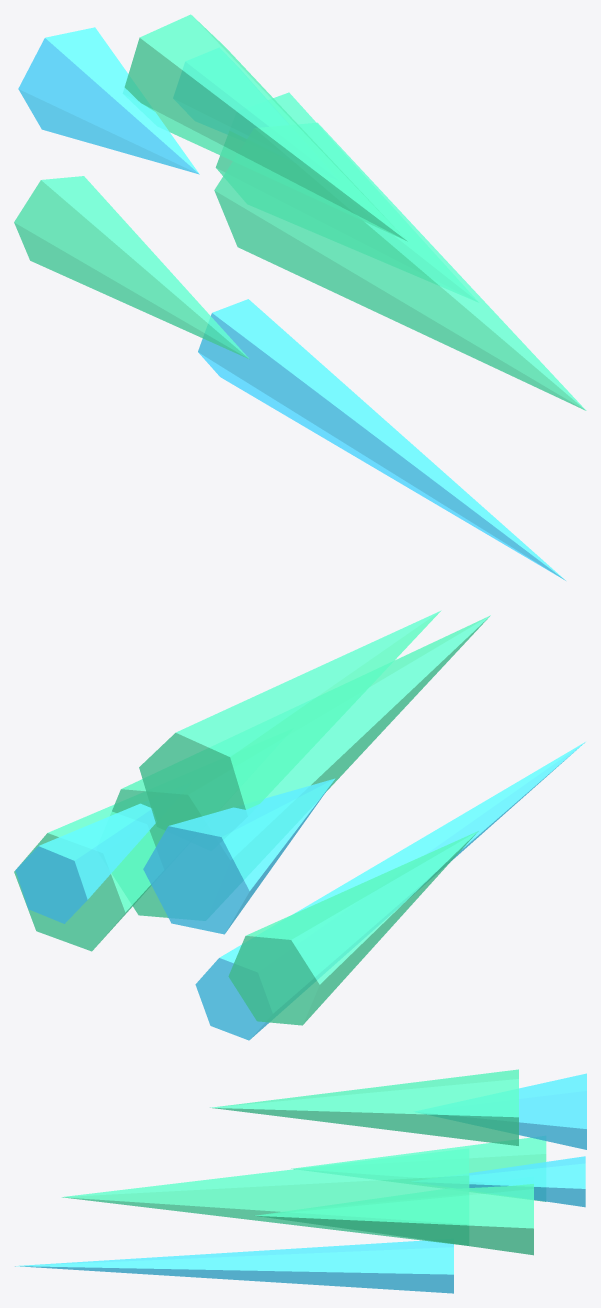
Rendered from 10_Green_Crystal_Growth.glb.
3 views of the same model, one above another, from view 1: azimuth 30°, elevation 25°; view 2: azimuth 150°, elevation 25°; view 3: azimuth 270°, elevation 25° (orthographic). The views are drawn at different scales.
Parts seen in each view (by area): view 1: 10_Green_Crystal_Growth_00, 10_Green_Crystal_Growth_02, 10_Green_Crystal_Growth_05, 10_Green_Crystal_Growth_04, 10_Green_Crystal_Growth_03, 10_Green_Crystal_Growth_01, 10_Green_Crystal_Growth_06; view 2: 10_Green_Crystal_Growth_02, 10_Green_Crystal_Growth_05, 10_Green_Crystal_Growth_04, 10_Green_Crystal_Growth_03, 10_Green_Crystal_Growth_00, 10_Green_Crystal_Growth_01, 10_Green_Crystal_Growth_06; view 3: 10_Green_Crystal_Growth_00, 10_Green_Crystal_Growth_05, 10_Green_Crystal_Growth_02, 10_Green_Crystal_Growth_06, 10_Green_Crystal_Growth_03, 10_Green_Crystal_Growth_01, 10_Green_Crystal_Growth_04.
Part boxes in pixels (x1,y1,x2,y2): 10_Green_Crystal_Growth_00: [214, 122, 586, 410]; 10_Green_Crystal_Growth_02: [124, 14, 407, 241]; 10_Green_Crystal_Growth_05: [198, 299, 565, 580]; 10_Green_Crystal_Growth_04: [14, 176, 249, 359]; 10_Green_Crystal_Growth_03: [18, 27, 199, 174]; 10_Green_Crystal_Growth_01: [174, 48, 288, 138]; 10_Green_Crystal_Growth_06: [215, 92, 315, 176]; 10_Green_Crystal_Growth_02: [139, 610, 441, 830]; 10_Green_Crystal_Growth_05: [195, 742, 585, 1040]; 10_Green_Crystal_Growth_04: [228, 831, 478, 1025]; 10_Green_Crystal_Growth_03: [143, 778, 335, 934]; 10_Green_Crystal_Growth_00: [112, 615, 490, 917]; 10_Green_Crystal_Growth_01: [15, 801, 156, 923]; 10_Green_Crystal_Growth_06: [14, 804, 155, 951]; 10_Green_Crystal_Growth_00: [61, 1148, 469, 1245]; 10_Green_Crystal_Growth_05: [15, 1240, 453, 1293]; 10_Green_Crystal_Growth_02: [210, 1069, 518, 1145]; 10_Green_Crystal_Growth_06: [255, 1183, 533, 1255]; 10_Green_Crystal_Growth_03: [416, 1073, 586, 1149]; 10_Green_Crystal_Growth_01: [414, 1156, 585, 1207]; 10_Green_Crystal_Growth_04: [291, 1137, 546, 1201].
Bounding box in the file's own units: 1.82 × 1.88 × 4.6.
